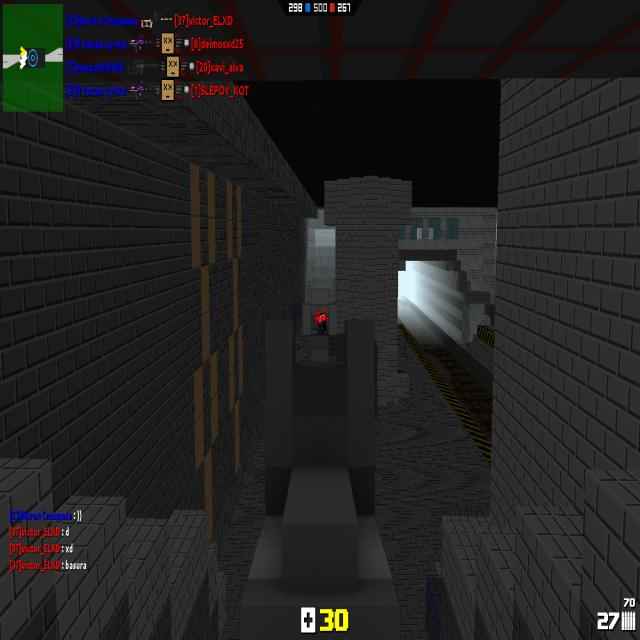enemy: (319, 312, 327, 330)
